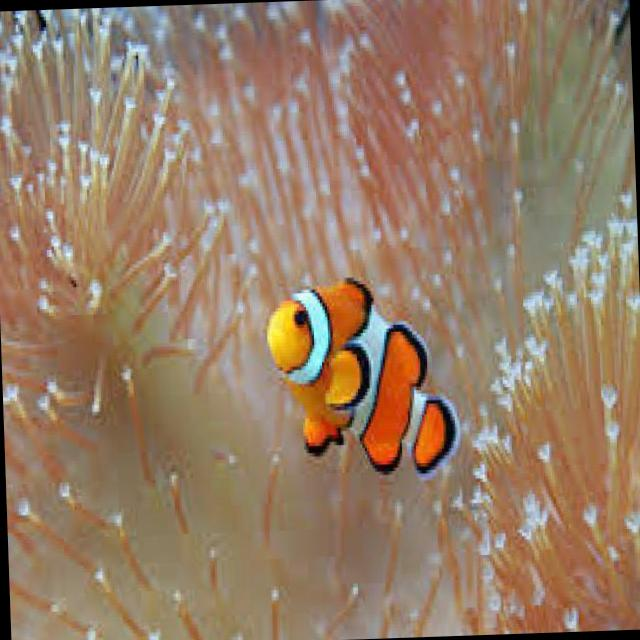ClownFish: (264, 271, 460, 490)
